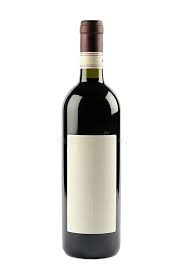bottle: (58, 16, 123, 262)
